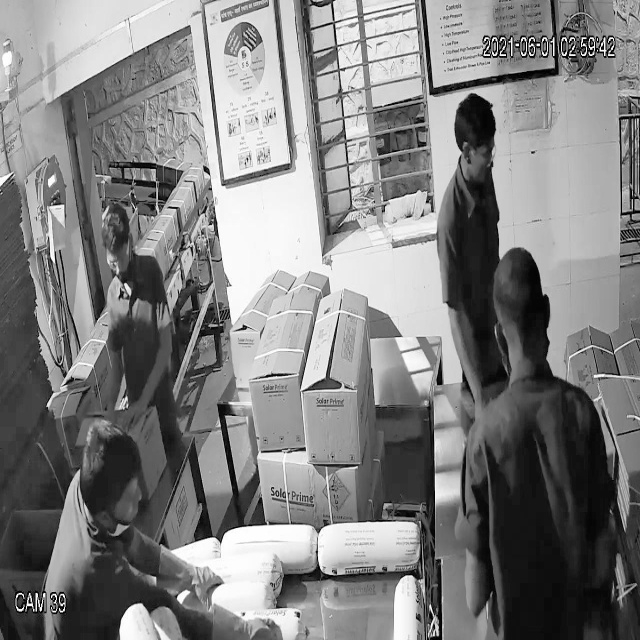Gafas: (99, 237, 136, 277)
